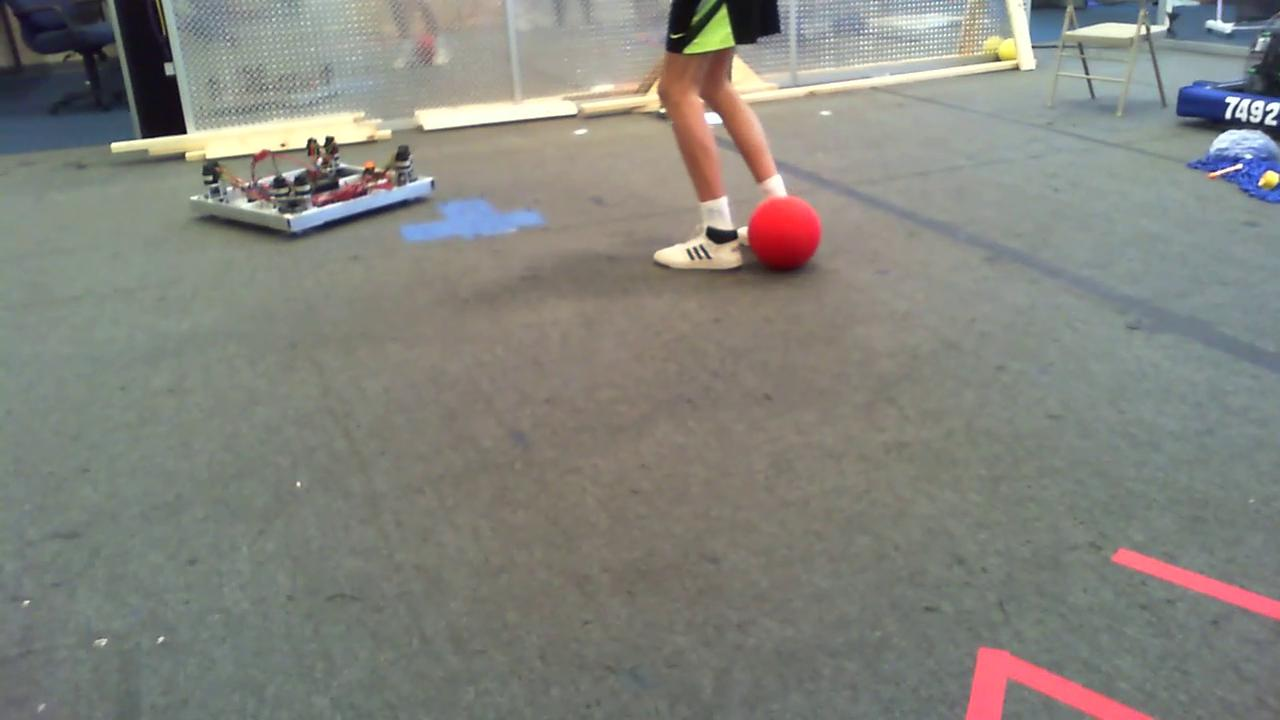Red_Ball: (740, 188, 819, 274)
